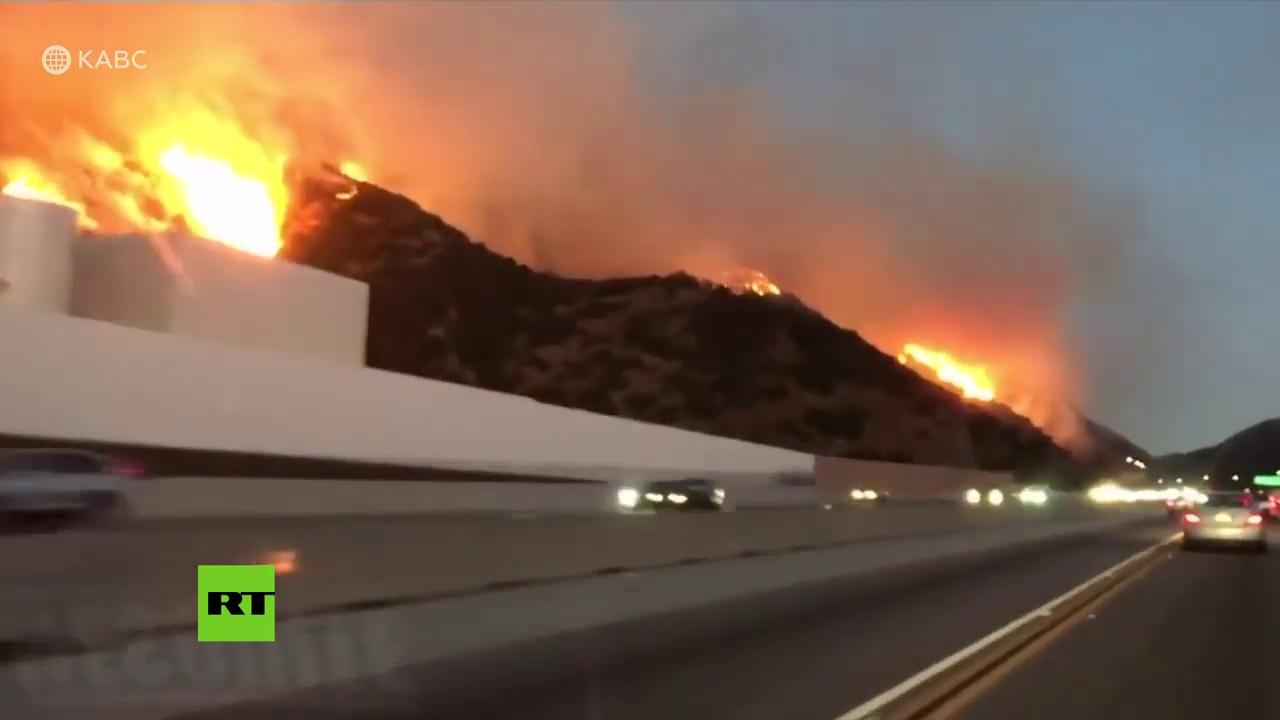Fire: (8, 110, 289, 259), (895, 342, 999, 405), (330, 164, 367, 203), (750, 274, 780, 297)
